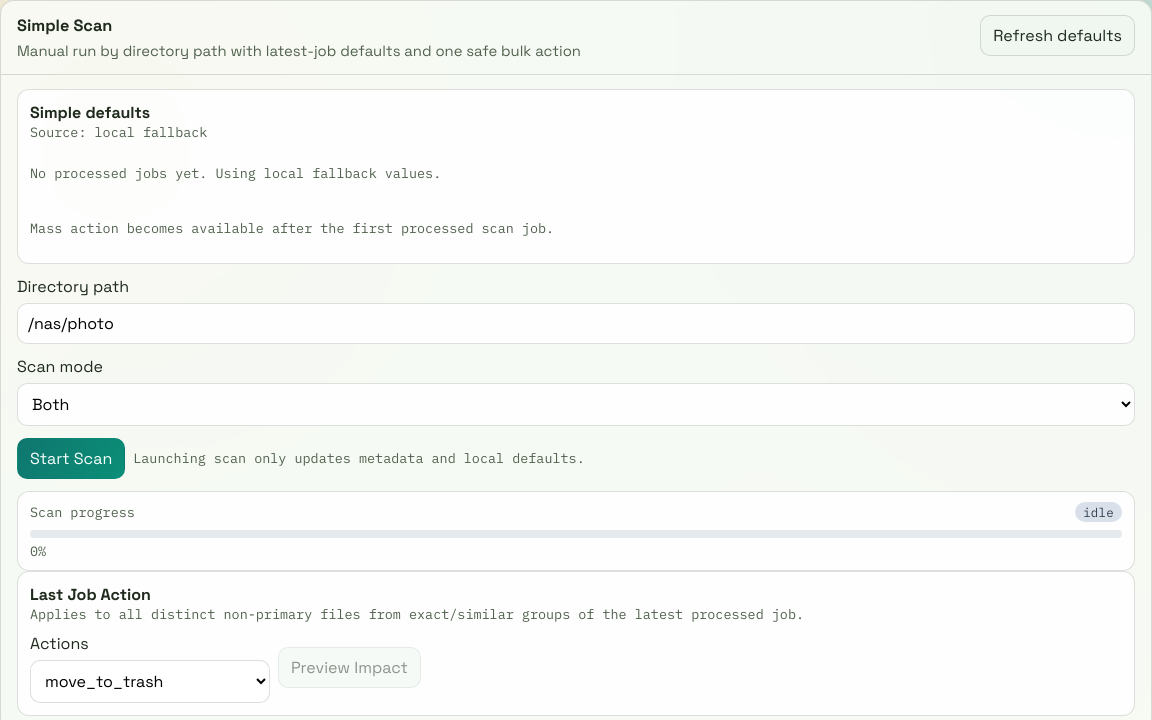
Test: DashboardPage › renders simple scan variant with directory input and compact progress
Expected: the element with test id "simple-scan-progress" is shown, left=17, top=491, right=1135, bottom=571
Replace the text in the field labelled "Directory path" with "/nas/manual". click: (576, 323)
box: left=17, top=303, right=1135, bottom=344
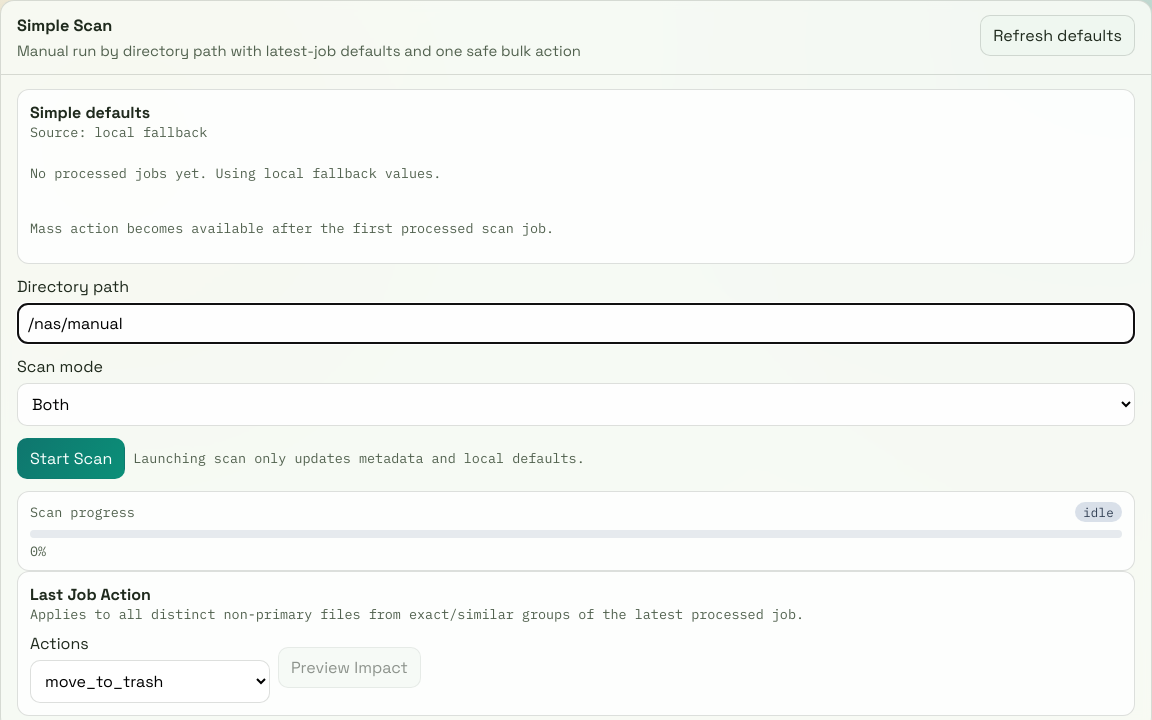
Click the button "Start Scan". click: (71, 458)
box: left=17, top=438, right=125, bottom=479
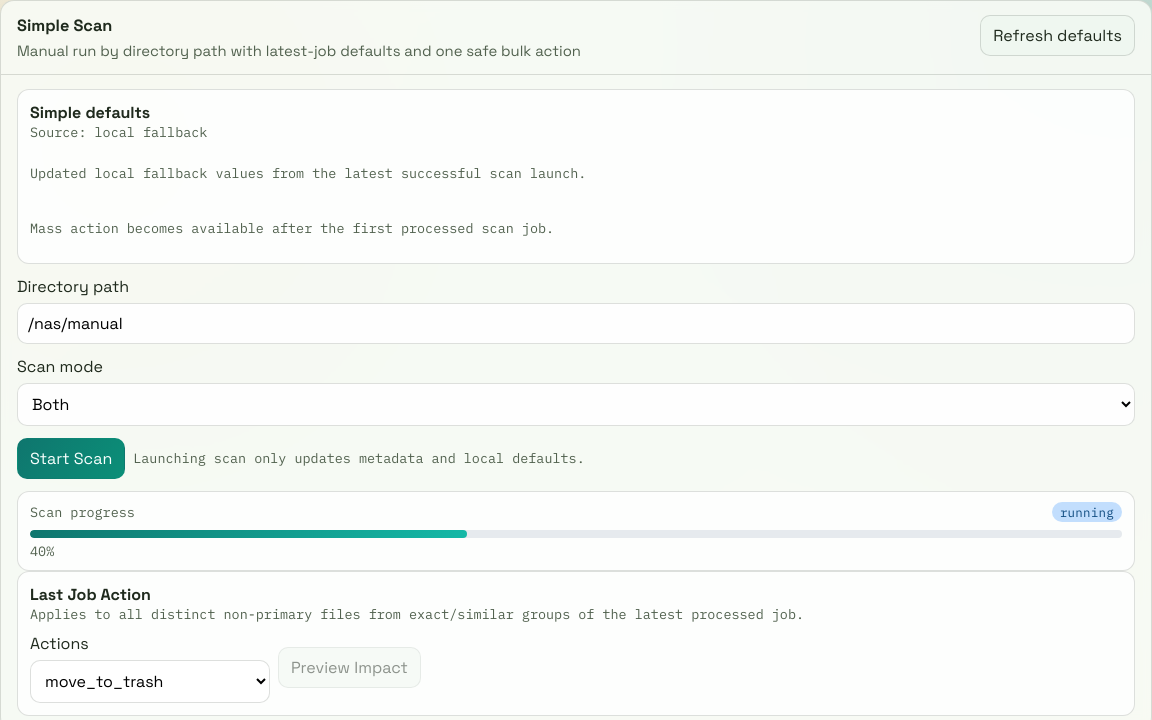
Expected: the element with test id "simple-scan-progress" shows "40%", left=17, top=491, right=1135, bottom=571
